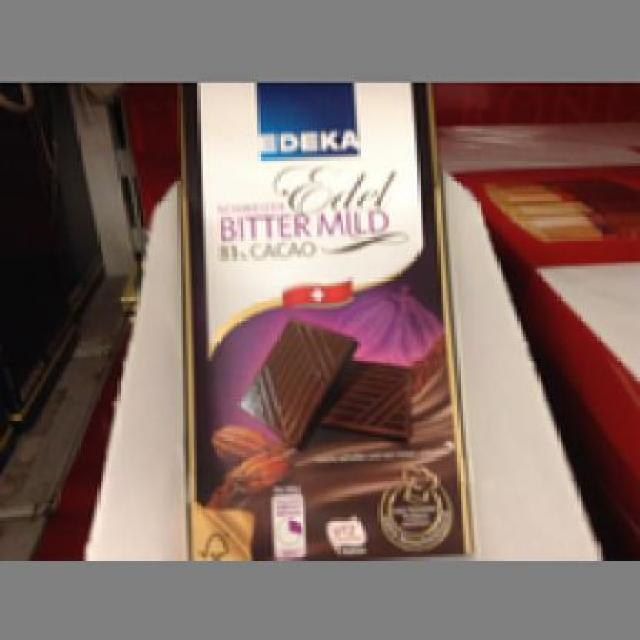Chocolate: (177, 80, 477, 560)
